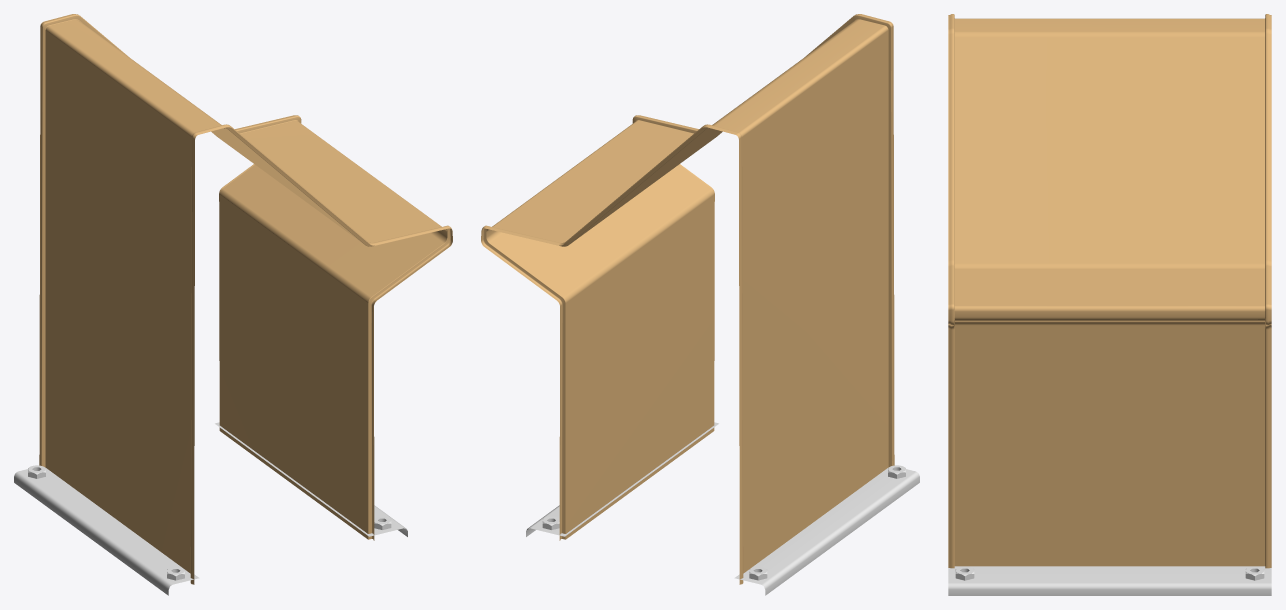
Rendered from SM_ConsoleBase.fbx.
3 views of the same model, side by side, from view 1: azimuth 30°, elevation 25°; view 2: azimuth 150°, elevation 25°; view 3: azimuth 270°, elevation 25° (orthographic). The views are drawn at different scales.
Parts seen in each view (by area): view 1: SM_ConsoleBase; view 2: SM_ConsoleBase; view 3: SM_ConsoleBase.
Boxes of the visible parts, x1=… form: SM_ConsoleBase: x1=14, y1=14, x2=452, y2=595; SM_ConsoleBase: x1=481, y1=14, x2=919, y2=595; SM_ConsoleBase: x1=948, y1=14, x2=1271, y2=595.
Size of the model in its own units: 106 by 162 by 100.
